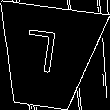L_S: (28, 30, 67, 84)
